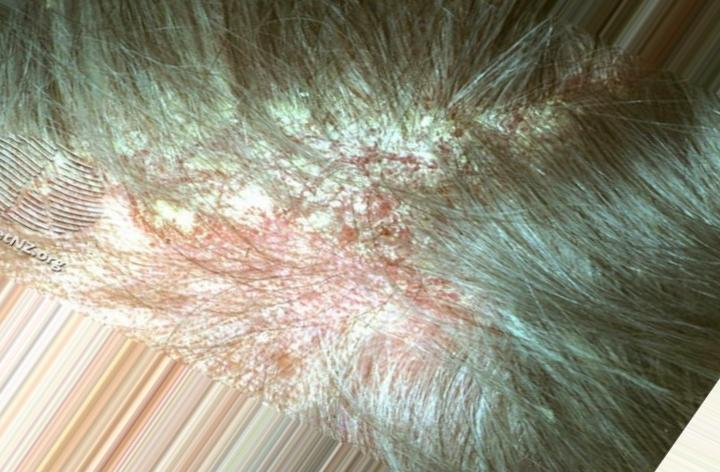Contact Dermatitis: (81, 75, 494, 385)
